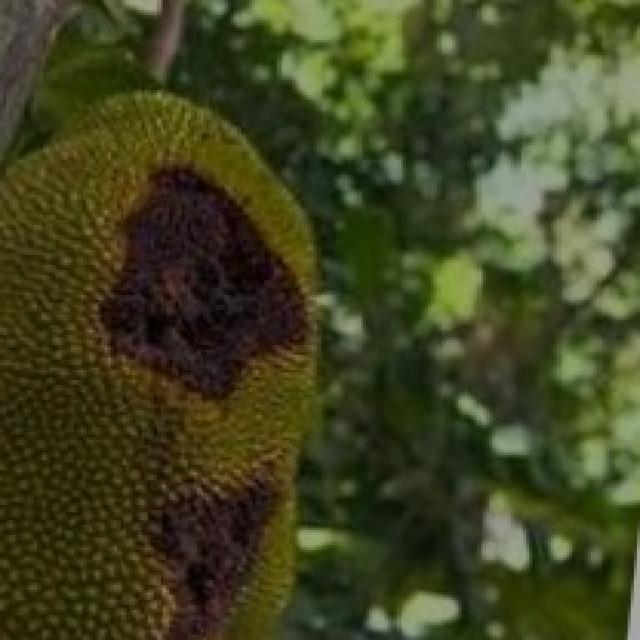Fruit: (0, 252, 385, 640), (0, 60, 363, 332)
